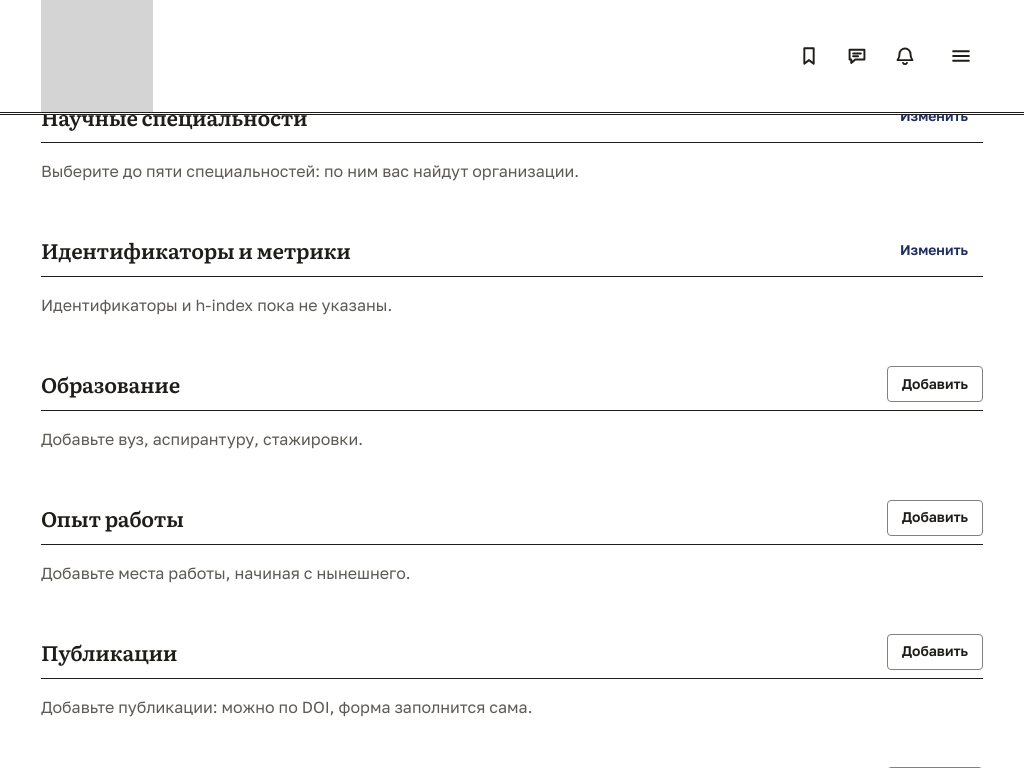
Test case: items › adds an education: years go as numbers, empty fields are not sent
This screenshot has width=1024, height=768.
(page scrolled)
Step 1. Click the button with aria-label "Добавить в раздел «Образование»" → (935,384), box [887, 366, 983, 402]
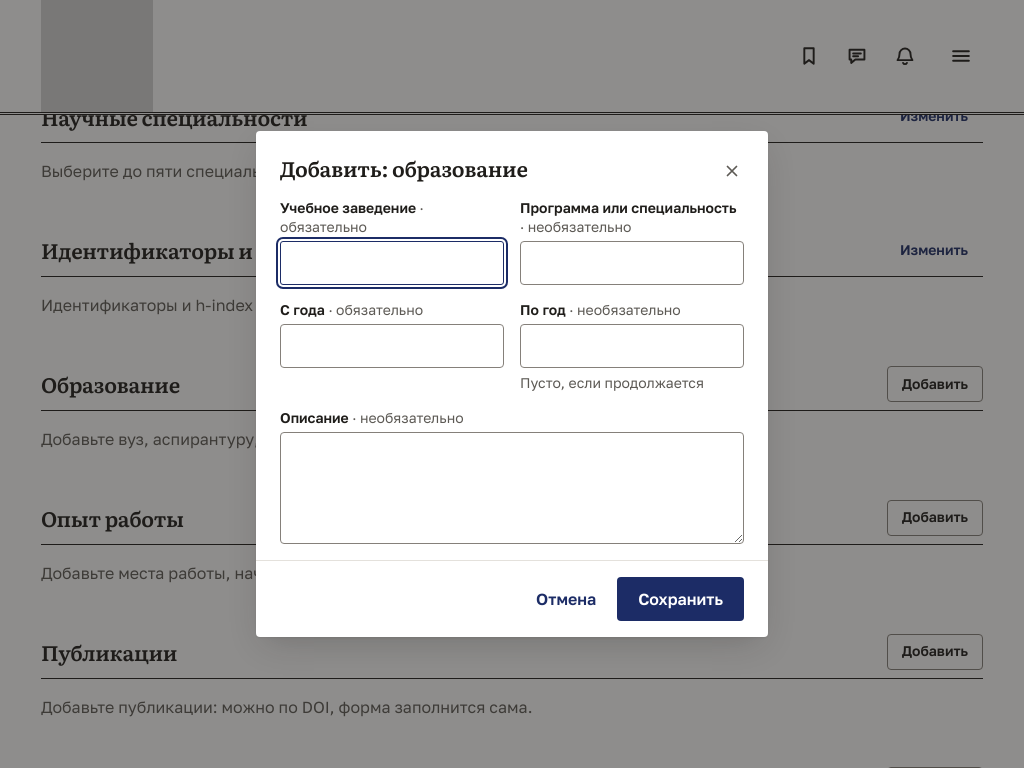
Step 2. Type "НГУ" into the field labelled "Учебное заведение · обязательно" → (392,263), box [280, 241, 504, 285]
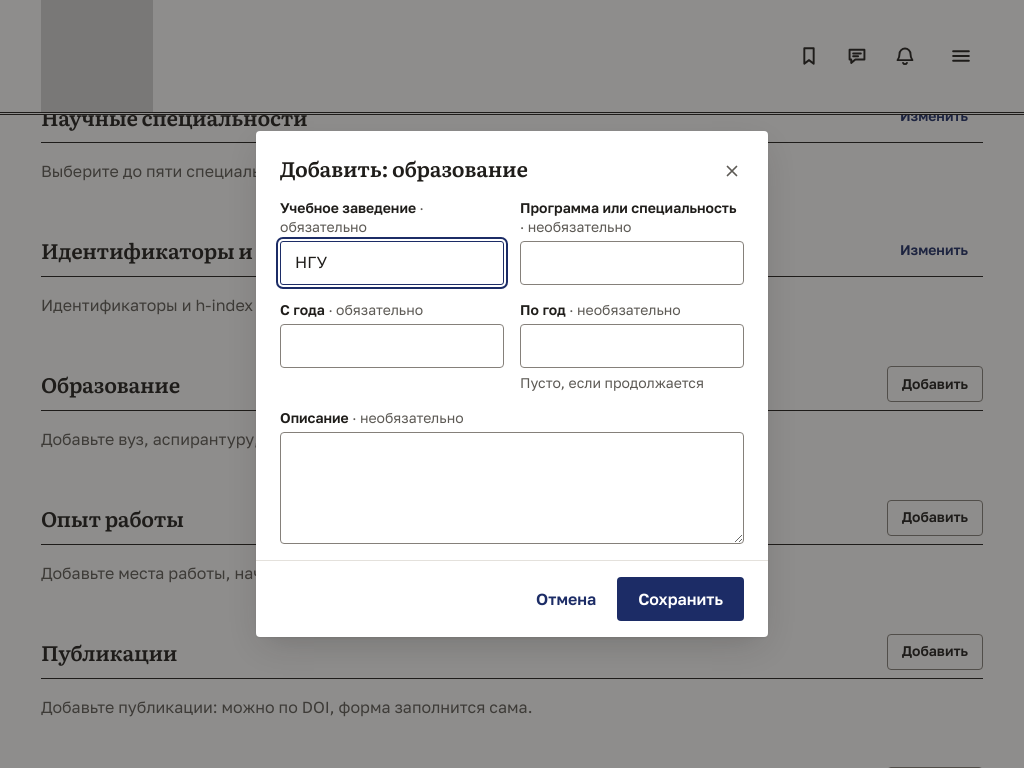
Step 3. Type "2010" into the number field labelled "С года · обязательно" → (392,346), box [280, 324, 504, 368]
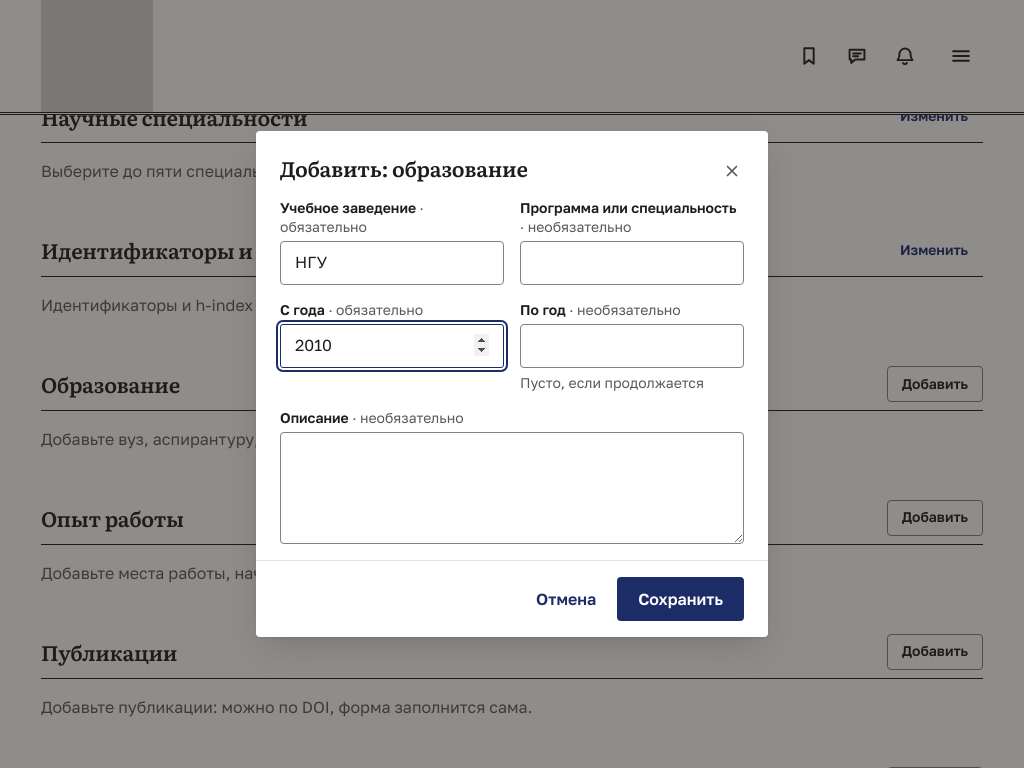
Step 4. Click the button "Сохранить" → (681,599), box [617, 577, 744, 621]
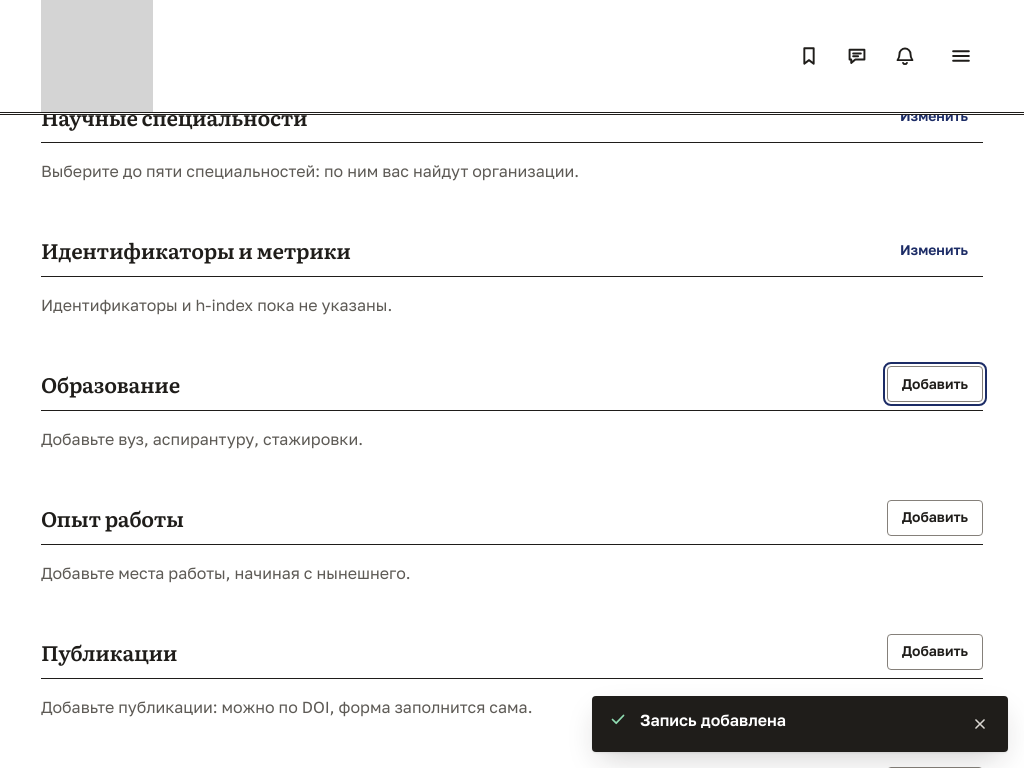
Now the text "Запись добавлена" is shown, box [640, 710, 786, 730]
Now the dialog is gone
